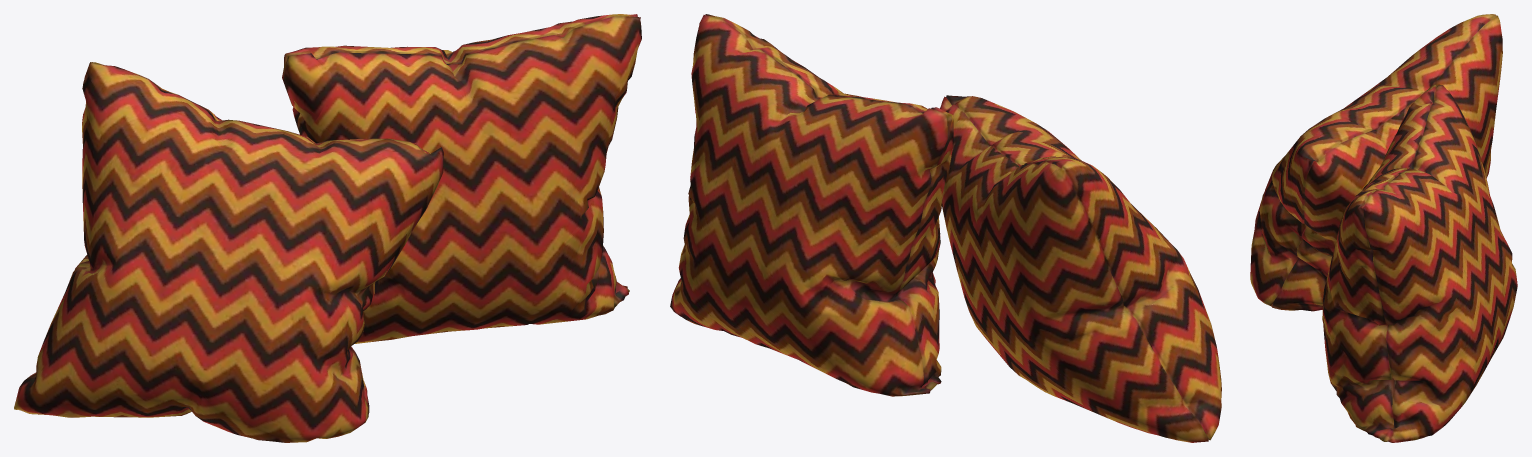
Rendered from throw_pillows_01.glb.
3 views of the same model, side by side, from view 1: azimuth 30°, elevation 25°; view 2: azimuth 150°, elevation 25°; view 3: azimuth 270°, elevation 25° (orthographic). The views are drawn at different scales.
Visible parts, largest first — view 1: throw_pillows_01_pillow01, throw_pillows_01_pillow02; view 2: throw_pillows_01_pillow02, throw_pillows_01_pillow01; view 3: throw_pillows_01_pillow02, throw_pillows_01_pillow01.
Part boxes in pixels (x1,y1,x2,y2): throw_pillows_01_pillow01: [14, 62, 443, 442]; throw_pillows_01_pillow02: [282, 14, 641, 343]; throw_pillows_01_pillow02: [670, 14, 953, 396]; throw_pillows_01_pillow01: [940, 95, 1221, 442]; throw_pillows_01_pillow02: [1322, 84, 1517, 442]; throw_pillows_01_pillow01: [1250, 14, 1502, 311].
Bounding box in the file's own units: 0.9401 × 0.4502 × 0.4519.
1 material, 1 textured.
